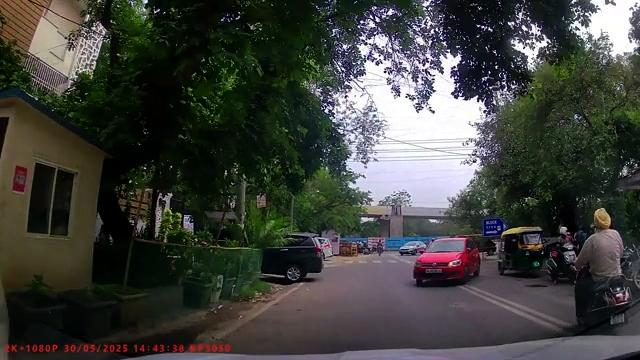motorcycle_with_helmet: (569, 205, 633, 334)
